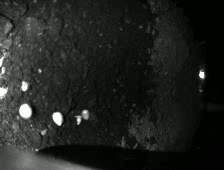corn: (17, 100, 34, 120), (50, 109, 65, 128), (18, 77, 31, 93), (79, 106, 92, 121), (72, 112, 84, 127)
